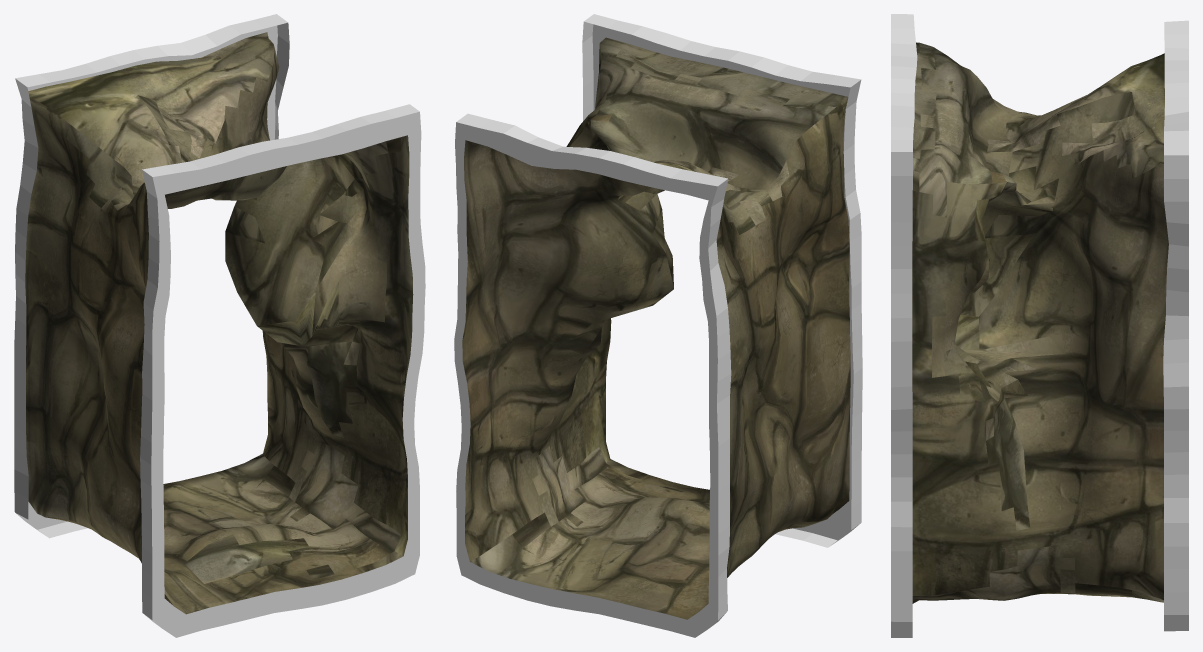
File: cave module 3.fbx
3 renders of one model, left to right at view 1: azimuth 30°, elevation 25°; view 2: azimuth 150°, elevation 25°; view 3: azimuth 270°, elevation 25°, orthographic. The views are drawn at different scales.
Parts seen in each view (by area): view 1: Plane.3; view 2: Plane.3; view 3: Plane.3.
Boxes of the visible parts, box(x1,y1,x2,y2) form: Plane.3: box(14, 14, 425, 637); Plane.3: box(454, 14, 862, 637); Plane.3: box(891, 14, 1188, 637).
Size of the model in its own units: 679 by 1107 by 600.
